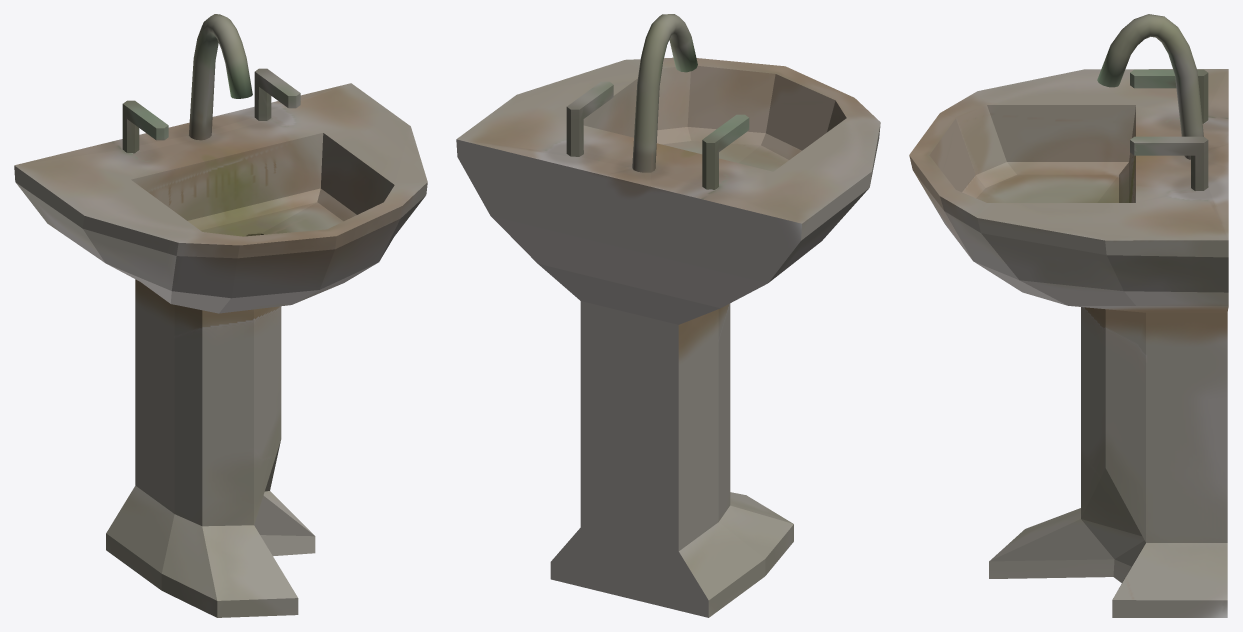
Rendered from Sink.fbx.
The picture shows the model from 3 angles, left to right: view 1: azimuth 30°, elevation 25°; view 2: azimuth 150°, elevation 25°; view 3: azimuth 270°, elevation 25°; orthographic projection. The views are drawn at different scales.
Parts seen in each view (by area): view 1: Canilla; view 2: Canilla; view 3: Canilla.
Part boxes in pixels (x1,y1,x2,y2): Canilla: (14,14,427,617); Canilla: (456,14,880,617); Canilla: (909,14,1228,617).
Bounding box in the file's own units: 282 × 433 × 222.
